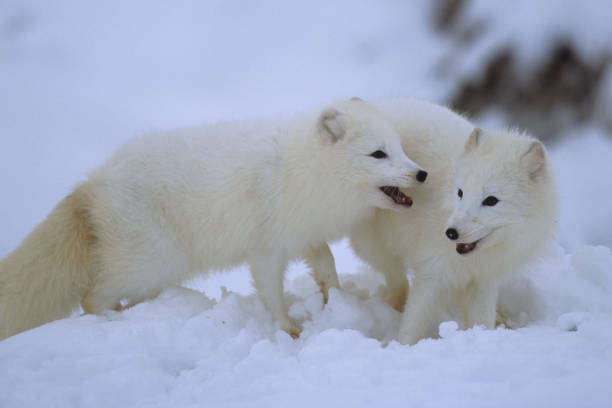arcticfox: (324, 110, 421, 224), (437, 153, 515, 267)
